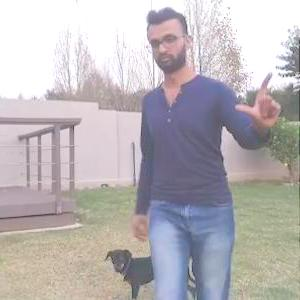land_hand: (233, 68, 287, 133)
